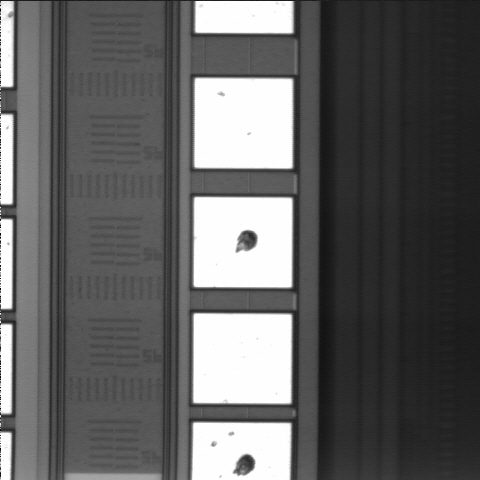pad: (194, 78, 293, 168), (193, 314, 292, 404), (194, 197, 292, 287)
